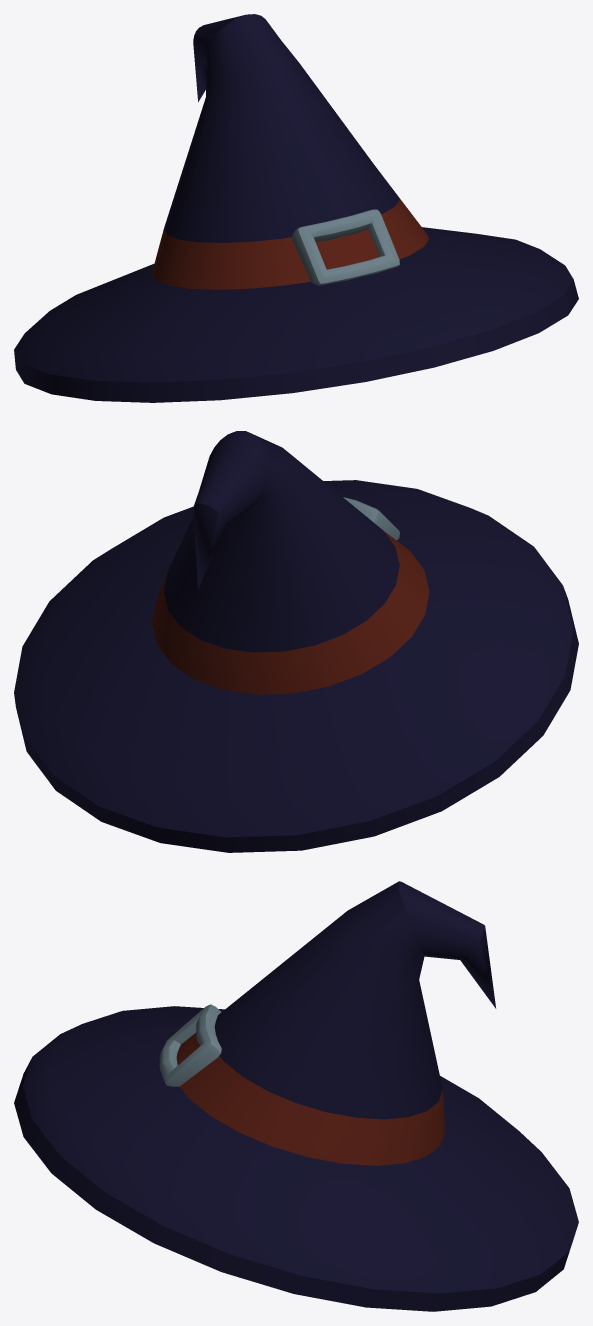
The model's file is hat_mage.fbx.
The picture shows the model from 3 angles, top to bottom: view 1: azimuth 30°, elevation 25°; view 2: azimuth 150°, elevation 25°; view 3: azimuth 270°, elevation 25°; orthographic projection. The views are drawn at different scales.
Parts seen in each view (by area): view 1: hat_mage; view 2: hat_mage; view 3: hat_mage.
Boxes of the visible parts, x1,y1,x2,y2 form: hat_mage: (14,14,578,402); hat_mage: (14,431,578,852); hat_mage: (14,881,578,1311).
Bounding box in the file's own units: 210 × 142 × 205.
